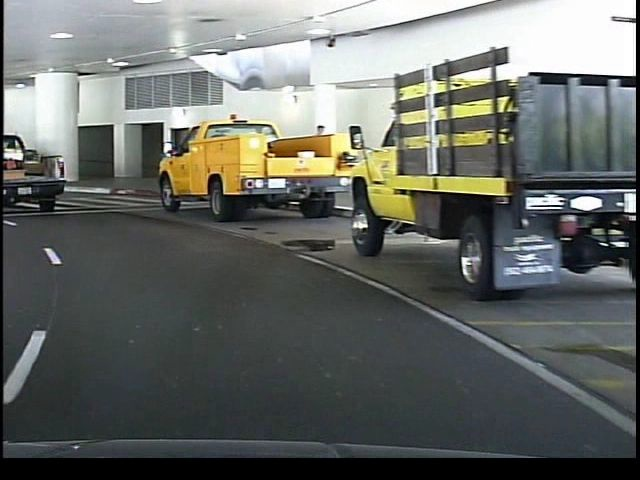person: (304, 119, 330, 199)
